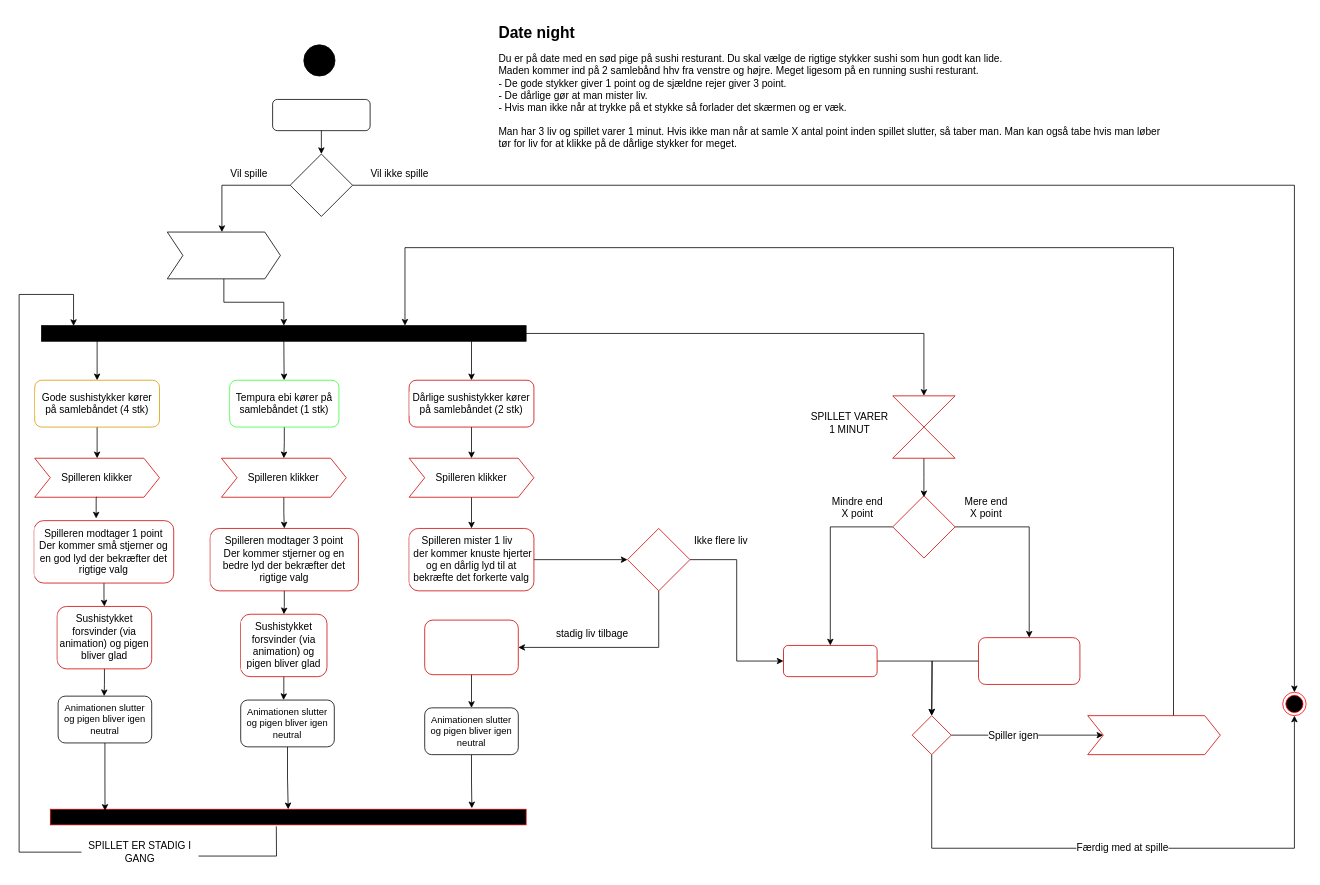
The diagram is 1320 pixels wide and 885 high, and some of its shapes have lost their labels. The shapes that lost their labels are listed below. From the top down, each one's centre as x and y in pixels, then its label:
At (x=321, y=115): "Main menu vises (musik spiller måske)".
At (x=223, y=255): "Trykker på *PLAY GAME*".
At (x=471, y=647): "Sushistykket forsvinder (via animation) og pigen bliver sur".
At (x=830, y=661): "GAME OVER".
At (x=1029, y=660): "LEVEL COMPLETE (måske der vises en highscore)".
At (x=1153, y=735): "trykker på *PLAY AGAIN*".
